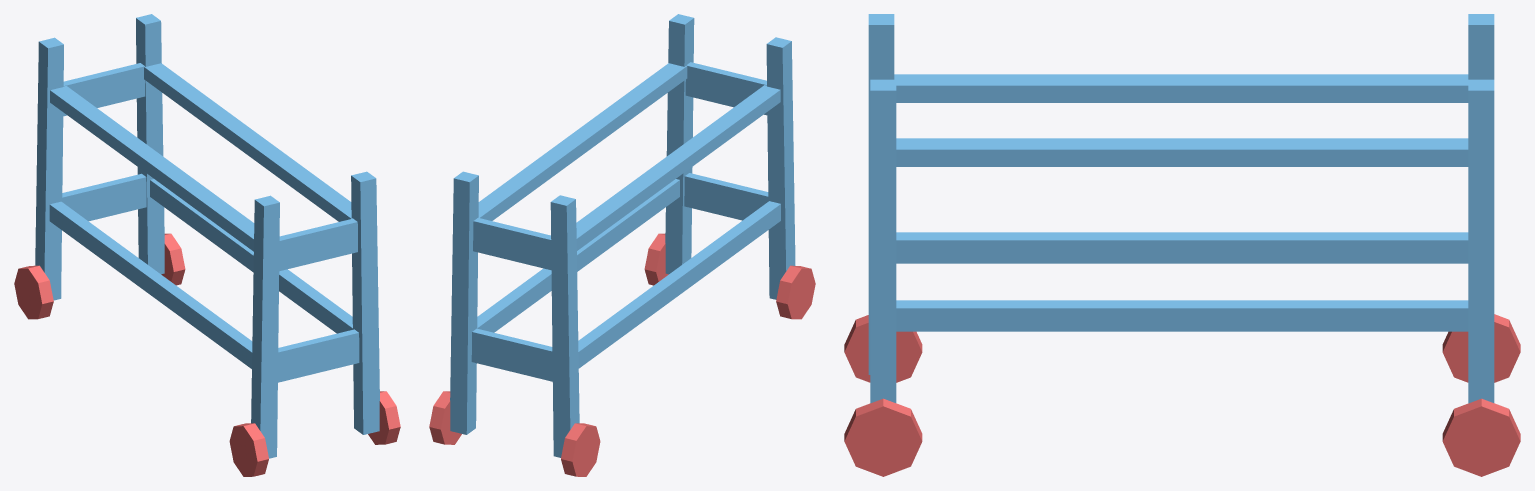
Rendered from rack.glb.
3 views of the same model, side by side, from view 1: azimuth 30°, elevation 25°; view 2: azimuth 150°, elevation 25°; view 3: azimuth 270°, elevation 25° (orthographic). The views are drawn at different scales.
Parts seen in each view (by area): view 1: pCube3, pCube2, pCube8, pCube7, pCube6, pCube4, pCube5, pCube12, pCube11, pCube9, pCube10, pCylinder3 (+3 smaller); view 2: pCube3, pCube4, pCube8, pCube7, pCube6, pCube2, pCube5, pCube9, pCube10, pCube12, pCube11, pCylinder4 (+3 smaller); view 3: pCube5, pCube6, pCube7, pCube8, pCube2, pCube4, pCylinder1, pCylinder2, pCube3, pCylinder3, pCylinder4.
Boxes of the visible parts, box(x1,y1,x2,y2) form: pCube3: box(35, 37, 279, 458); pCube2: box(351, 171, 379, 434); pCube8: box(144, 63, 352, 221); pCube7: box(50, 86, 254, 251); pCube6: box(49, 201, 252, 368); pCube4: box(136, 14, 164, 274); pCube5: box(150, 179, 352, 333); pCube12: box(278, 329, 359, 382); pCube11: box(279, 218, 357, 271); pCube9: box(62, 173, 146, 221); pCube10: box(63, 63, 145, 116); pCylinder3: box(14, 265, 53, 319); pCube3: box(550, 37, 795, 457); pCube4: box(450, 171, 478, 434); pCube8: box(478, 63, 687, 220); pCube7: box(576, 85, 780, 250); pCube6: box(578, 201, 780, 368); pCube2: box(665, 14, 694, 274); pCube5: box(477, 179, 679, 332); pCube9: box(471, 328, 552, 381); pCube10: box(473, 218, 551, 270); pCube12: box(684, 173, 768, 220); pCube11: box(685, 62, 767, 115); pCylinder4: box(776, 265, 815, 319); pCube5: box(896, 300, 1468, 331); pCube6: box(896, 232, 1468, 263); pCube7: box(894, 74, 1468, 102); pCube8: box(896, 138, 1468, 166); pCube2: box(870, 79, 896, 403); pCube4: box(1468, 79, 1494, 403); pCylinder1: box(844, 398, 922, 476); pCylinder2: box(1442, 398, 1520, 476); pCube3: box(868, 14, 1494, 374); pCylinder3: box(1442, 314, 1520, 382); pCylinder4: box(844, 315, 922, 382).
Bounding box in the file's own units: 0.6142 × 1.11 × 1.81.
1 material, 1 textured.
